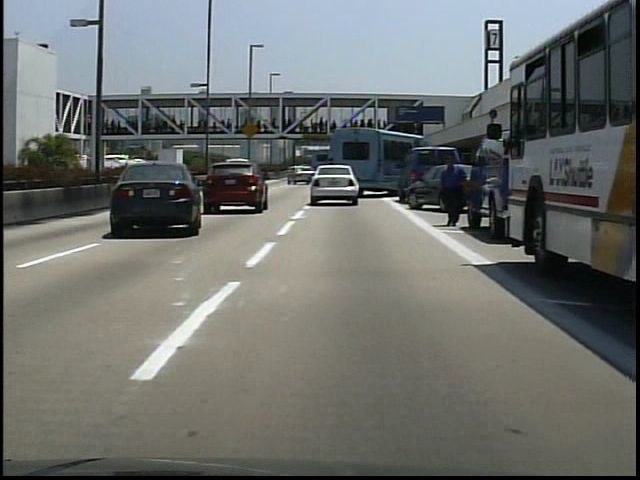person: (435, 157, 470, 231)
